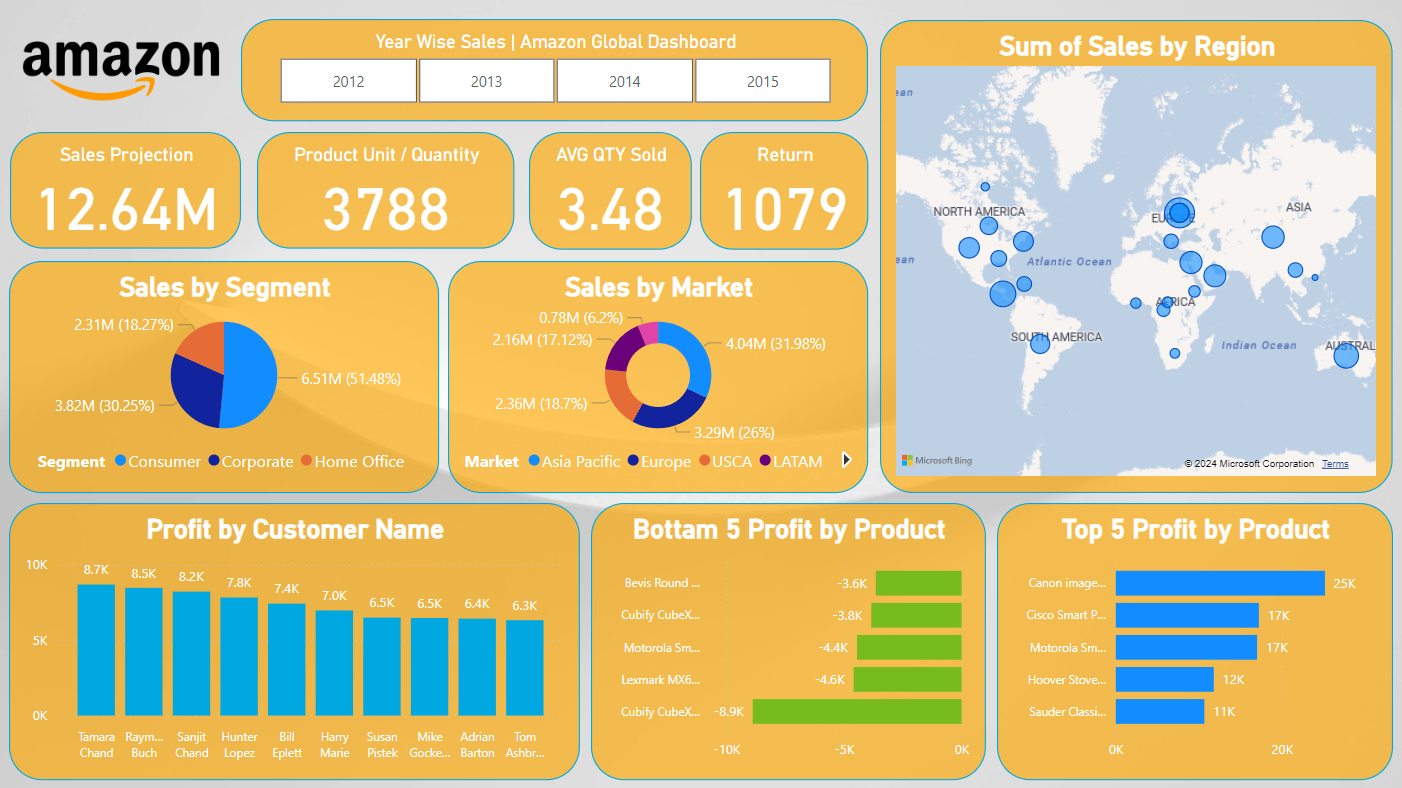

The dashboard page shown, as its layout file describes it:
{"tool":"powerbi","page":{"name":"Dashboard","canvas":[1280,720],"ordinal":0},"visuals":[{"type":"slicer","title":"Year Wise Sales | Amazon Global Dashboard","fields":{"Values":["Orders.Order Date.Variation.Date Hierarchy.Year"]},"box":[221.7,18.6,570.1,93.1],"z":0},{"type":"card","title":"Sales Projection","fields":{"Values":["Orders.Sales"]},"box":[11.5,120.6,210.1,106.4],"z":1000,"group":"g1"},{"type":"image","box":[12.5,10,200,111.2],"z":1000},{"type":"card","title":"Product Unit / Quantity","fields":{"Values":["Orders.Product Name"]},"box":[235.8,120.6,234.1,106.4],"z":2000,"group":"g1"},{"type":"pieChart","title":"Sales by Segment","fields":{"Category":["Orders.Segment"],"Y":["Orders.Sales"]},"box":[11,238,391,211],"z":2000},{"type":"card","title":"AVG QTY Sold","fields":{"Values":["Orders.Quantity"]},"box":[483.2,121,147.8,106.7],"z":3000,"group":"g1"},{"type":"donutChart","title":"Sales by Market","fields":{"Y":["Orders.Sales"],"Category":["Orders.Market"]},"box":[410,238,382,211],"z":3000},{"type":"card","title":"Return","fields":{"Values":["Returns.Return Year"]},"box":[638.8,121,153.3,106.7],"z":4000,"group":"g1"},{"type":"columnChart","title":"Profit by Customer Name","fields":{"Category":["Orders.Customer Name"],"Y":["Orders.Profit"]},"box":[11.1,457.8,518.9,252.2],"z":4000},{"type":"clusteredBarChart","title":"Bottam 5 Profit by Product","fields":{"Category":["Orders.Product Name"],"Y":["Orders.Profit"]},"box":[540,457.8,358.9,252.2],"z":5000},{"type":"clusteredBarChart","title":"Top 5 Profit by Product","fields":{"Category":["Orders.Product Name"],"Y":["Orders.Profit"]},"box":[908.9,457.8,360,252.2],"z":6000},{"type":"map","fields":{"Category":["Orders.Region"],"Size":["Orders.Sales"]},"box":[802.5,18.8,466.2,430],"z":7000},{"type":"group","id":"g1","title":"Group 1","box":[11.5,120.6,780.6,107.1],"z":8000}]}

Visuals, with their boxes in screenshot pixels (x1, y1, x2, y2), scaled from the page's 1280x720 canvas onto the 1402x788 screenshot:
"Year Wise Sales | Amazon Global Dashboard" slicer: detection(243, 20, 867, 122)
"Sales Projection" card: detection(13, 132, 243, 248)
image: detection(14, 11, 233, 133)
"Product Unit / Quantity" card: detection(258, 132, 515, 248)
"Sales by Segment" pieChart: detection(12, 260, 440, 491)
"AVG QTY Sold" card: detection(529, 132, 691, 249)
"Sales by Market" donutChart: detection(449, 260, 867, 491)
"Return" card: detection(700, 132, 868, 249)
"Profit by Customer Name" columnChart: detection(12, 501, 581, 777)
"Bottam 5 Profit by Product" clusteredBarChart: detection(591, 501, 985, 777)
"Top 5 Profit by Product" clusteredBarChart: detection(996, 501, 1390, 777)
map - Orders.Region x Orders.Sales: detection(879, 21, 1390, 491)
"Group 1" group: detection(13, 132, 868, 249)
